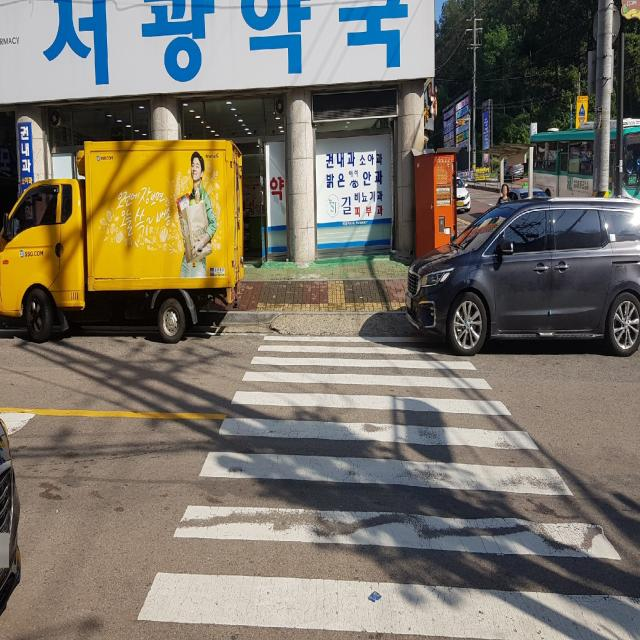횡단보도: (135, 328, 640, 640)
